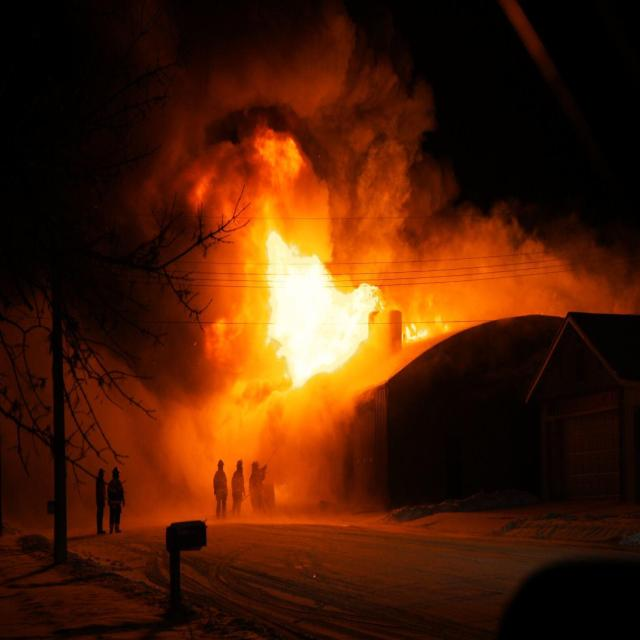Fire: (247, 197, 391, 378)
